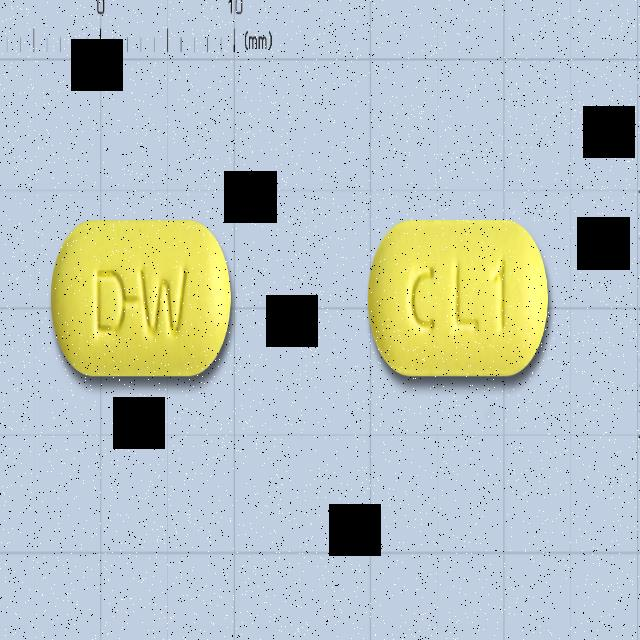Clearmycin: (366, 218, 549, 378), (50, 222, 230, 378)
